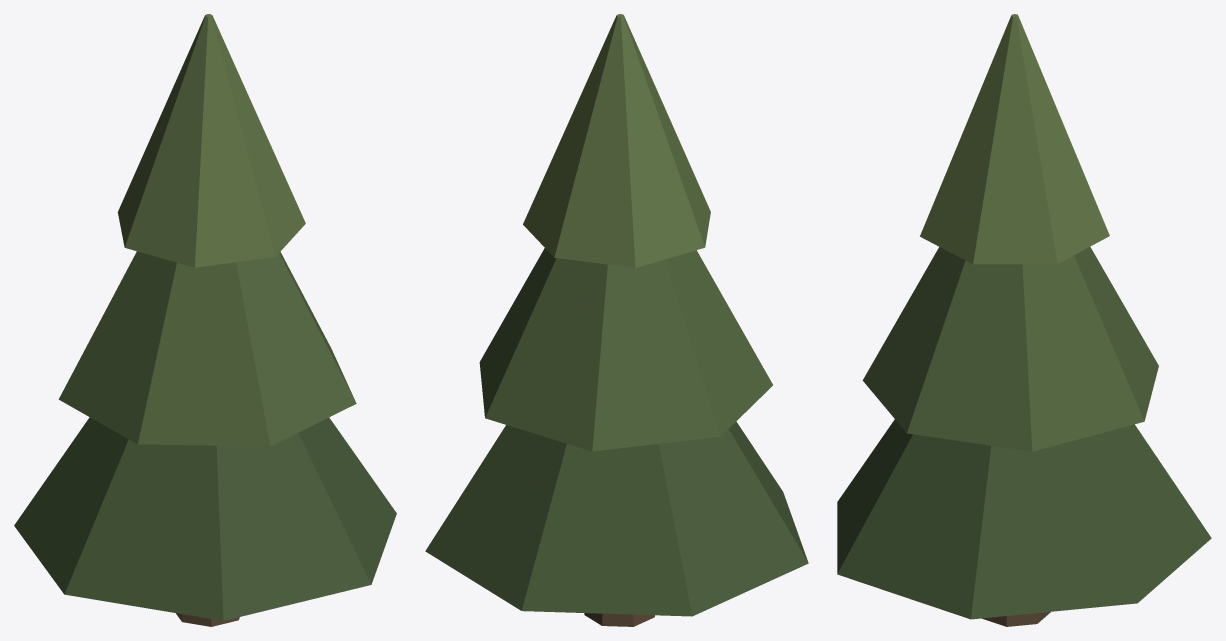
Rendered from env_tree.glb.
3 views of the same model, side by side, from view 1: azimuth 30°, elevation 25°; view 2: azimuth 150°, elevation 25°; view 3: azimuth 270°, elevation 25° (orthographic).
Parts seen in each view (by area): view 1: Fir; view 2: Fir; view 3: Fir.
Part boxes in pixels (<box>): Fir: <box>14,14,396,626</box>; Fir: <box>425,14,808,626</box>; Fir: <box>837,14,1211,626</box>.
Bounding box in the file's own units: 2.01 × 3.44 × 1.96.
